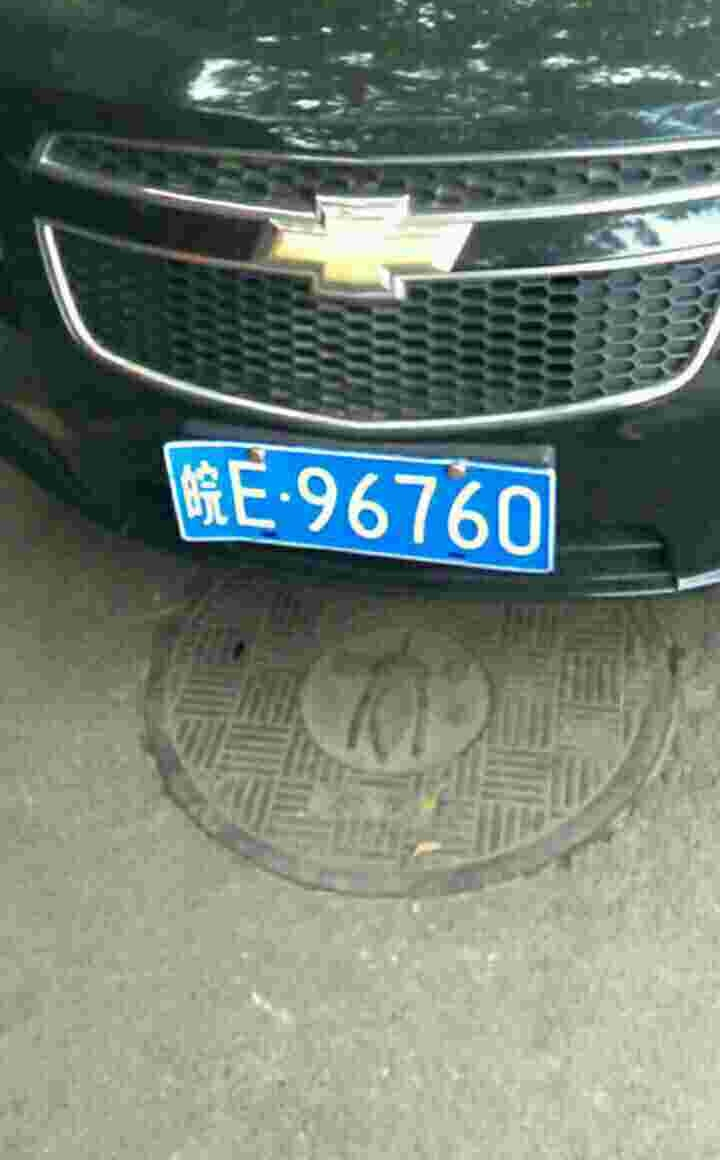license_plate: (163, 430, 556, 574)
